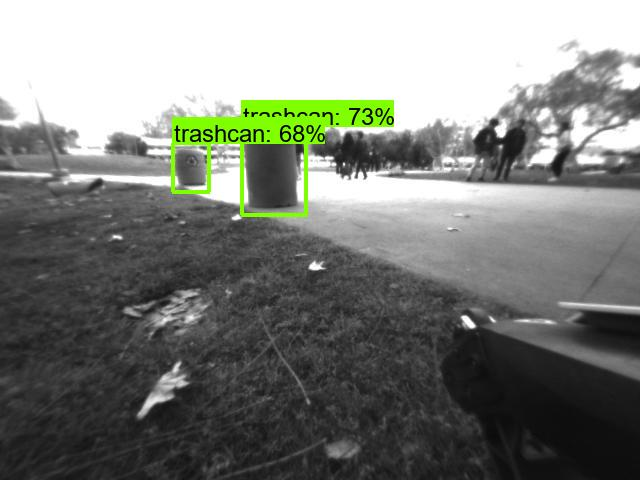trashcan: (237, 126, 303, 211), (171, 141, 211, 191)
